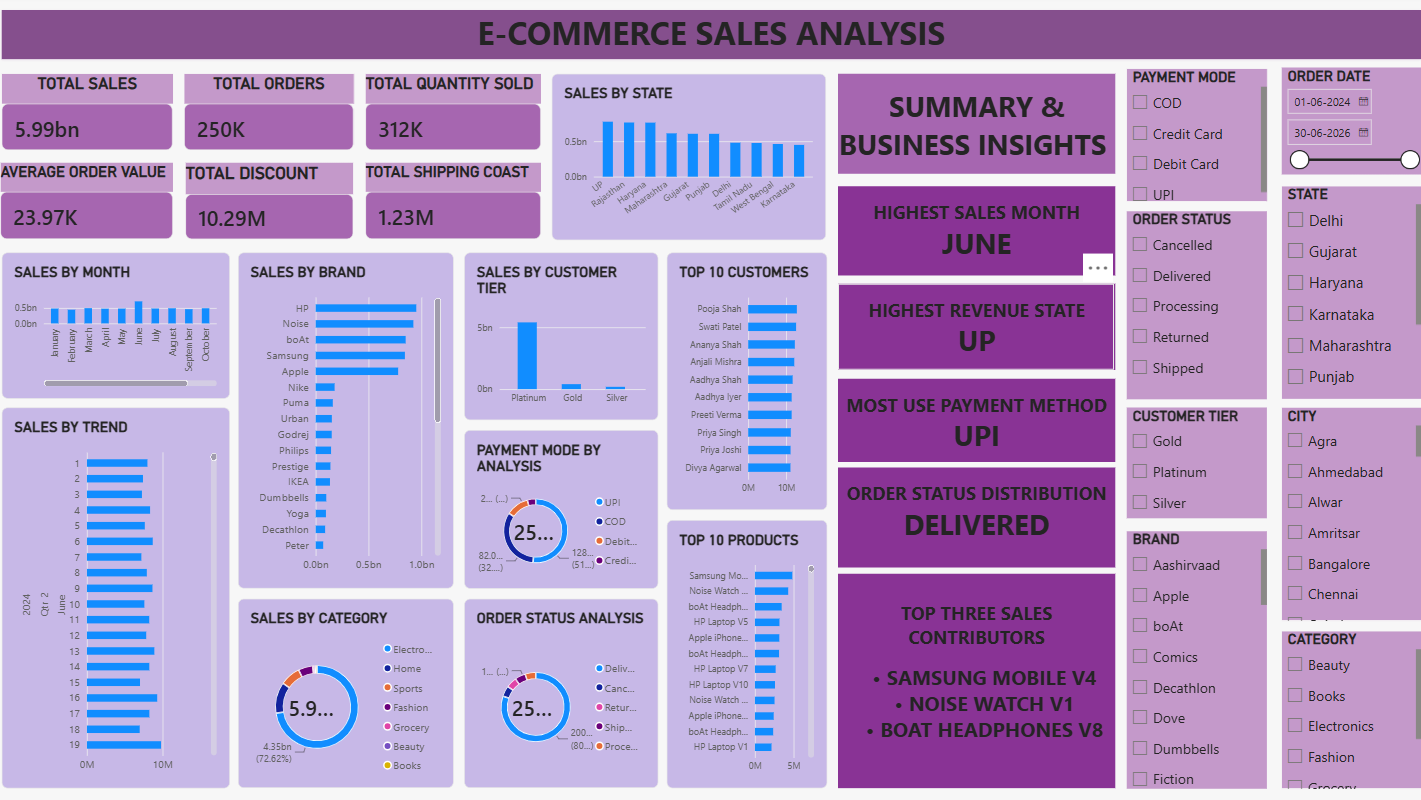

The page's visual inventory and layout, read from the dashboard file:
{"tool":"powerbi","page":{"name":"SALES_ANALYSIS","canvas":[1920,1080],"ordinal":3},"visuals":[{"type":"textbox","box":[12.3,20.6,1895.7,65.9],"z":0},{"type":"cardVisual","title":"TOTAL SALES","fields":{"Data":["Sum(sales.Order_Value)"]},"box":[12.3,105,228.5,102.9],"z":1000},{"type":"cardVisual","title":"TOTAL ORDERS ","fields":{"Data":["Count(sales.Order_ID)"]},"box":[255.2,105,226.4,102.9],"z":2000},{"type":"cardVisual","title":"TOTAL QUANTITY SOLD","fields":{"Data":["Sum(sales.Quantity)"]},"box":[498.1,105,234.6,102.9],"z":3000},{"type":"cardVisual","title":"AVERAGE ORDER VALUE","fields":{"Data":["Avg(sales.Order_Value)"]},"box":[10.3,224.4,230.5,102.9],"z":4000},{"type":"cardVisual","title":"TOTAL DISCOUNT","fields":{"Data":["Sum(products.Discount_Amount)"]},"box":[257.3,224.4,224.4,102.9],"z":5000},{"type":"cardVisual","title":"TOTAL SHIPPING COAST","fields":{"Data":["Sum(sales.Shipping_Cost)"]},"box":[498.1,224.4,234.6,102.9],"z":6000},{"type":"clusteredColumnChart","title":"SALES BY MONTH","fields":{"Category":["sales.Order_Date.Variation.Date Hierarchy.Month"],"Y":["Sum(sales.Order_Value)"]},"box":[12.3,343.7,304.6,195.5],"z":7000},{"type":"donutChart","title":"SALES BY CATEGORY","fields":{"Category":["products.Category"],"Y":["Sum(sales.Order_Value)"]},"box":[327.3,806.9,288.2,253.2],"z":8000},{"type":"clusteredBarChart","title":"SALES BY BRAND","fields":{"Category":["products.Brand"],"Y":["Sum(sales.Order_Value)"]},"box":[327.3,343.7,288.2,448.7],"z":9000},{"type":"columnChart","title":"SALES BY CUSTOMER TIER","fields":{"Category":["customers.Customer_Tier"],"Y":["Sum(sales.Order_Value)"]},"box":[629.8,343.7,259.3,224.4],"z":10000},{"type":"columnChart","title":"SALES BY STATE","fields":{"Category":["customers.State"],"Y":["Sum(sales.Order_Value)"]},"box":[747.2,105,366.4,222.3],"z":11000},{"type":"barChart","title":"SALES BY TREND","fields":{"Category":["sales.Order_Date.Variation.Date Hierarchy.Year","sales.Order_Date.Variation.Date Hierarchy.Quarter","sales.Order_Date.Variation.Date Hierarchy.Month","sales.Order_Date.Variation.Date Hierarchy.Day"],"Y":["Sum(sales.Order_Value)"]},"box":[12.3,551.6,304.6,508.4],"z":12000},{"type":"donutChart","title":"PAYMENT MODE BY ANALYSIS","fields":{"Category":["sales.Payment_Mode"],"Y":["CountNonNull(sales.Order_ID)"]},"box":[629.8,580.4,259.3,212],"z":13000},{"type":"donutChart","title":"ORDER STATUS ANALYSIS","fields":{"Category":["sales.Order_Status"],"Y":["CountNonNull(sales.Order_ID)"]},"box":[629.8,806.9,259.3,253.2],"z":14000},{"type":"clusteredBarChart","title":"TOP 10 CUSTOMERS","fields":{"Category":["customers.Customer_Name"],"Y":["Sum(sales.Order_Value)"]},"box":[899.5,343.7,214.1,343.7],"z":15000},{"type":"clusteredBarChart","title":"TOP 10 PRODUCTS","fields":{"Category":["products.Product_Name"],"Y":["Sum(sales.Order_Value)"]},"box":[899.5,701.9,214.1,358.1],"z":16000},{"type":"slicer","title":" ","fields":{"Values":["sales.Order_Date"]},"box":[1720.8,96.7,187.3,142],"z":17000},{"type":"slicer","title":" ","fields":{"Values":["sales.State"]},"box":[1720.8,255.2,187.3,284],"z":18000},{"type":"slicer","title":" ","fields":{"Values":["sales.City"]},"box":[1720.8,551.6,187.3,284],"z":19000},{"type":"slicer","title":" ","fields":{"Values":["products.Category"]},"box":[1720.8,850.1,187.3,209.9],"z":20000},{"type":"slicer","title":" ","fields":{"Values":["products.Brand"]},"box":[1514.9,716.3,187.3,343.7],"z":21000},{"type":"slicer","title":" ","fields":{"Values":["customers.Customer_Tier"]},"box":[1514.9,551.6,187.3,148.2],"z":22000},{"type":"slicer","title":" ","fields":{"Values":["sales.Payment_Mode"]},"box":[1514.9,98.8,187.3,177],"z":23000},{"type":"slicer","title":" ","fields":{"Values":["sales.Order_Status"]},"box":[1514.9,288.2,187.3,251.1],"z":24000},{"type":"textbox","box":[1128,105,370.5,133.8],"z":25000},{"type":"textbox","box":[1128,255.2,370.5,119.4],"z":26000},{"type":"textbox","box":[1128,384.9,370.5,115.3],"z":27000},{"type":"textbox","box":[1128,512.5,370.5,111.1],"z":28000},{"type":"textbox","box":[1128,631.9,370.5,133.8],"z":29000},{"type":"textbox","box":[1128,773.9,370.5,286.1],"z":30000}]}

Visuals, with their boxes in screenshot pixels (x1, y1, x2, y2), scaled from the page's 1920x1080 canvas onto the 1421x800 screenshot:
textbox: {"left": 9, "top": 15, "right": 1412, "bottom": 64}
"TOTAL SALES" cardVisual: {"left": 9, "top": 78, "right": 178, "bottom": 154}
"TOTAL ORDERS " cardVisual: {"left": 189, "top": 78, "right": 356, "bottom": 154}
"TOTAL QUANTITY SOLD" cardVisual: {"left": 369, "top": 78, "right": 542, "bottom": 154}
"AVERAGE ORDER VALUE" cardVisual: {"left": 8, "top": 166, "right": 178, "bottom": 242}
"TOTAL DISCOUNT" cardVisual: {"left": 190, "top": 166, "right": 357, "bottom": 242}
"TOTAL SHIPPING COAST" cardVisual: {"left": 369, "top": 166, "right": 542, "bottom": 242}
"SALES BY MONTH" clusteredColumnChart: {"left": 9, "top": 255, "right": 235, "bottom": 399}
"SALES BY CATEGORY" donutChart: {"left": 242, "top": 598, "right": 456, "bottom": 785}
"SALES BY BRAND" clusteredBarChart: {"left": 242, "top": 255, "right": 456, "bottom": 587}
"SALES BY CUSTOMER TIER" columnChart: {"left": 466, "top": 255, "right": 658, "bottom": 421}
"SALES BY STATE" columnChart: {"left": 553, "top": 78, "right": 824, "bottom": 242}
"SALES BY TREND" barChart: {"left": 9, "top": 409, "right": 235, "bottom": 785}
"PAYMENT MODE BY ANALYSIS" donutChart: {"left": 466, "top": 430, "right": 658, "bottom": 587}
"ORDER STATUS ANALYSIS" donutChart: {"left": 466, "top": 598, "right": 658, "bottom": 785}
"TOP 10 CUSTOMERS" clusteredBarChart: {"left": 666, "top": 255, "right": 824, "bottom": 509}
"TOP 10 PRODUCTS" clusteredBarChart: {"left": 666, "top": 520, "right": 824, "bottom": 785}
" " slicer: {"left": 1274, "top": 72, "right": 1412, "bottom": 177}
" " slicer: {"left": 1274, "top": 189, "right": 1412, "bottom": 399}
" " slicer: {"left": 1274, "top": 409, "right": 1412, "bottom": 619}
" " slicer: {"left": 1274, "top": 630, "right": 1412, "bottom": 785}
" " slicer: {"left": 1121, "top": 531, "right": 1260, "bottom": 785}
" " slicer: {"left": 1121, "top": 409, "right": 1260, "bottom": 518}
" " slicer: {"left": 1121, "top": 73, "right": 1260, "bottom": 204}
" " slicer: {"left": 1121, "top": 213, "right": 1260, "bottom": 399}
textbox: {"left": 835, "top": 78, "right": 1109, "bottom": 177}
textbox: {"left": 835, "top": 189, "right": 1109, "bottom": 277}
textbox: {"left": 835, "top": 285, "right": 1109, "bottom": 371}
textbox: {"left": 835, "top": 380, "right": 1109, "bottom": 462}
textbox: {"left": 835, "top": 468, "right": 1109, "bottom": 567}
textbox: {"left": 835, "top": 573, "right": 1109, "bottom": 785}
